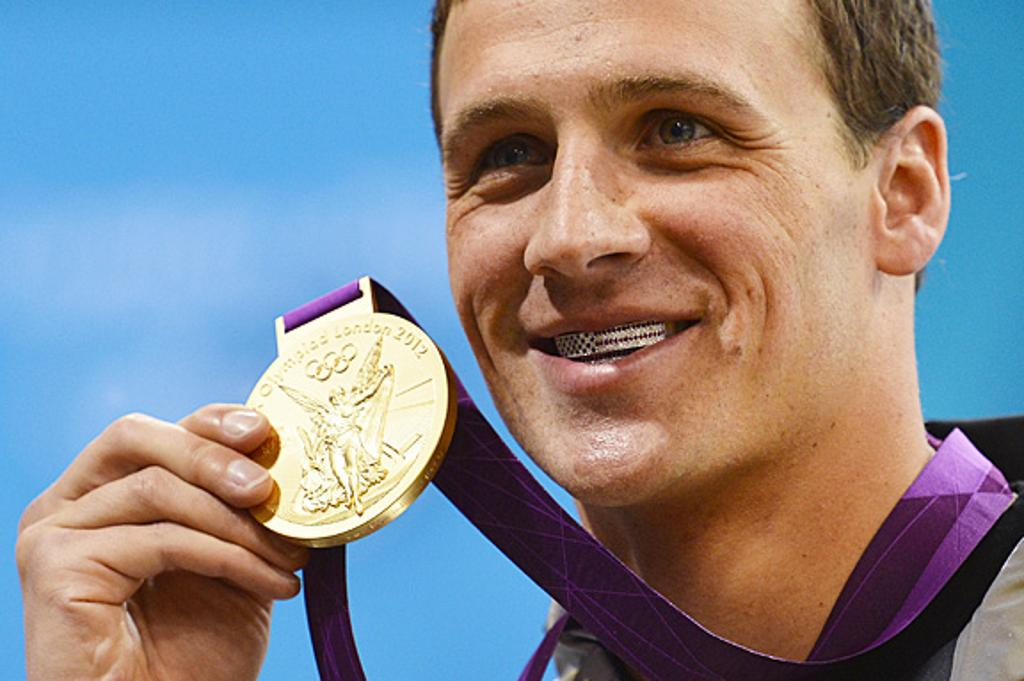face: (440, 10, 820, 508)
